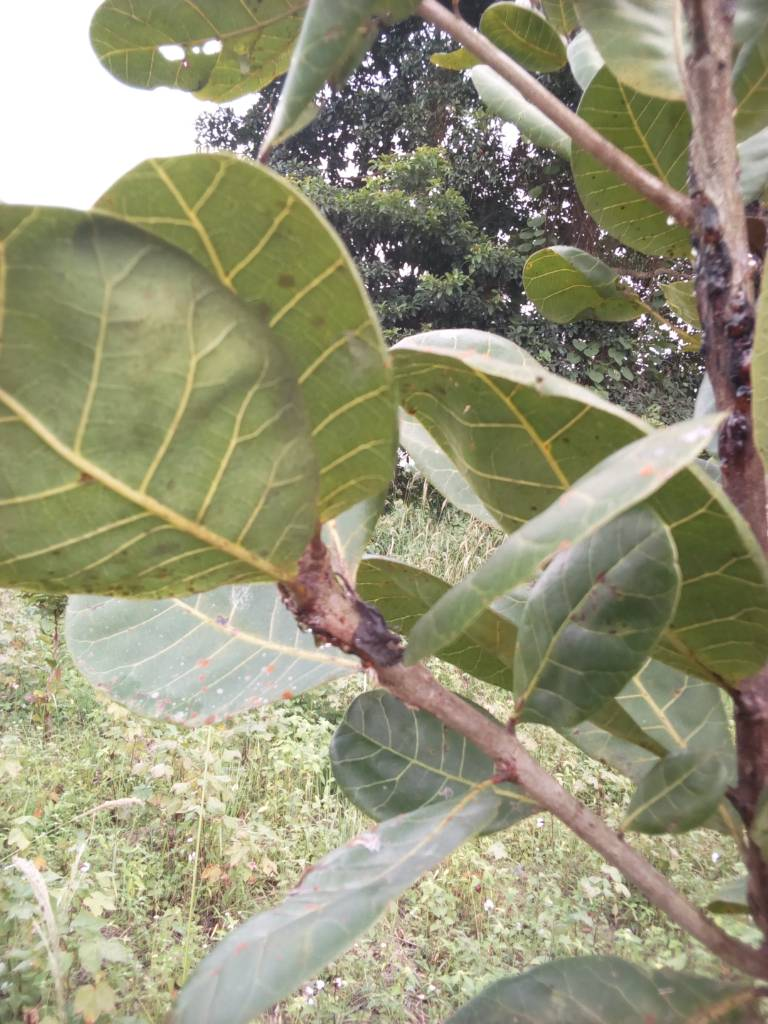Rouille: (390, 400, 740, 649)
